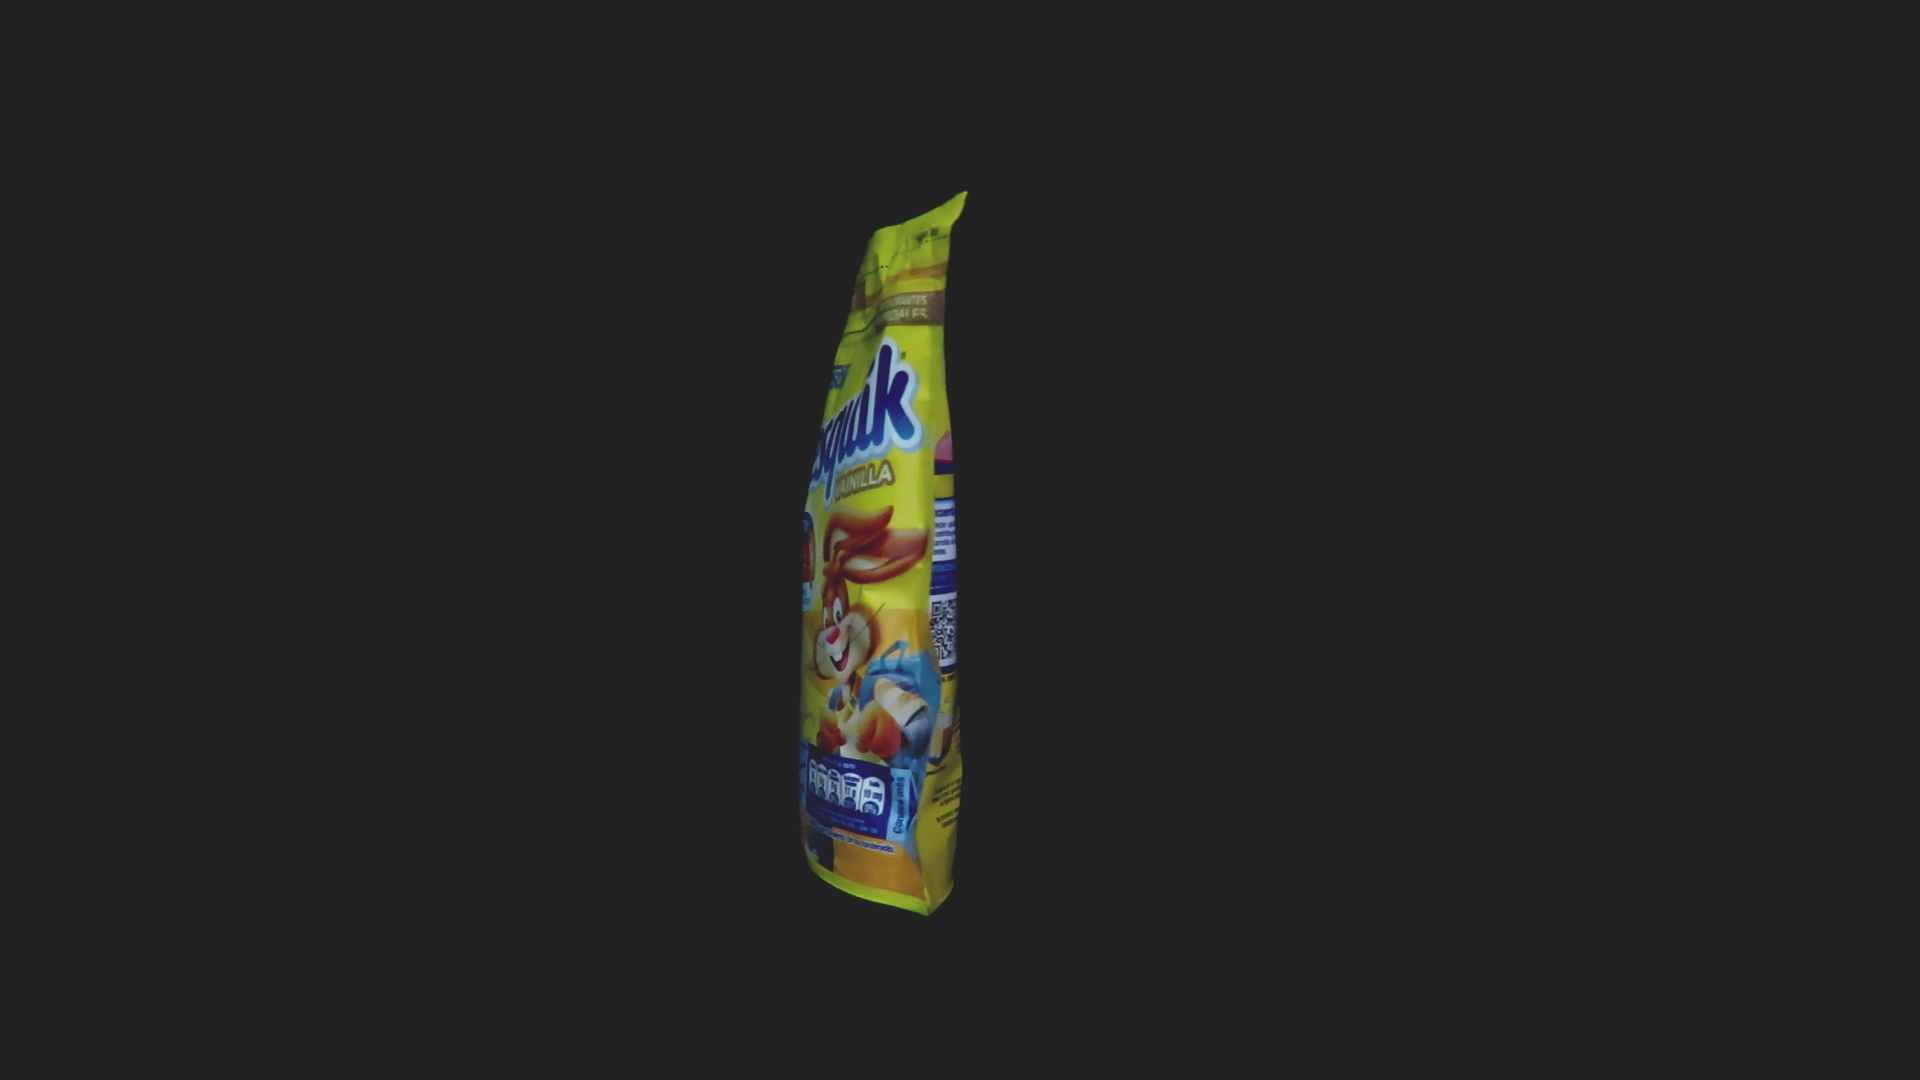COL0170306DYP20000: (793, 186, 975, 922)
